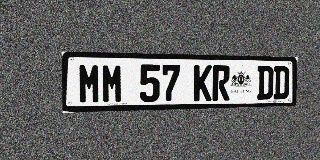5: (140, 64, 160, 102)
7: (161, 65, 180, 102)
D: (257, 66, 274, 100), (273, 66, 289, 99)
K: (193, 65, 212, 101)
M: (78, 63, 101, 104), (101, 64, 123, 103)
R: (212, 65, 230, 101)
